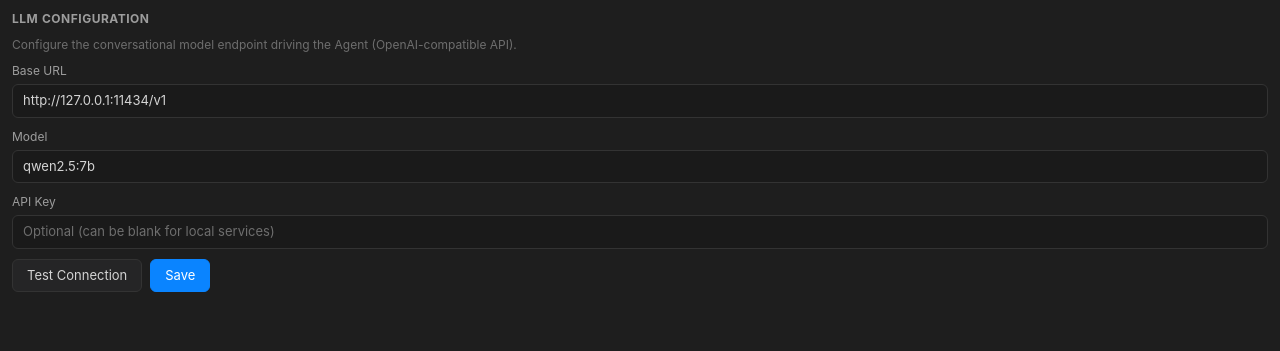
Scenario: SettingsPanel › saves base_url and model but omits a blank API key
Type "http://lm.test/v1" into the field with test id "input-base-url".
click(640, 101); type("http://lm.test/v1")  # box left=12, top=84, right=1268, bottom=118
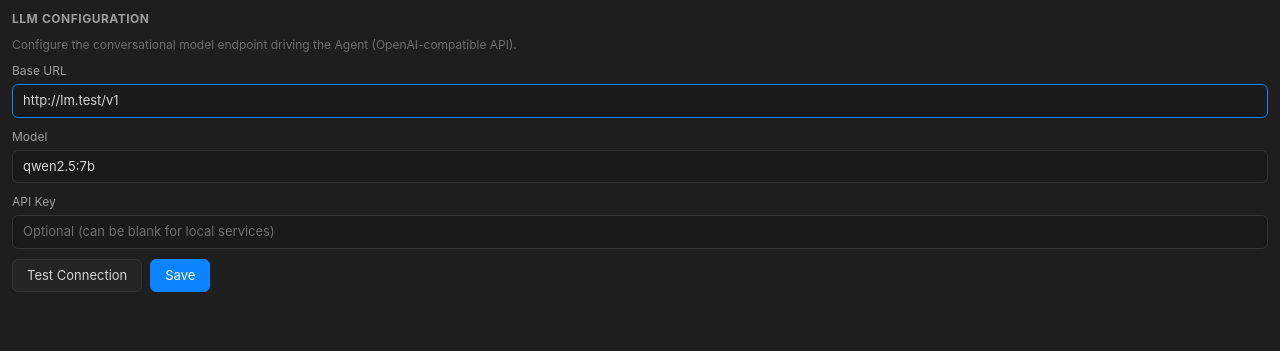
Type "lm-1" into the field with test id "input-model".
click(640, 166); type("lm-1")  # box left=12, top=150, right=1268, bottom=183
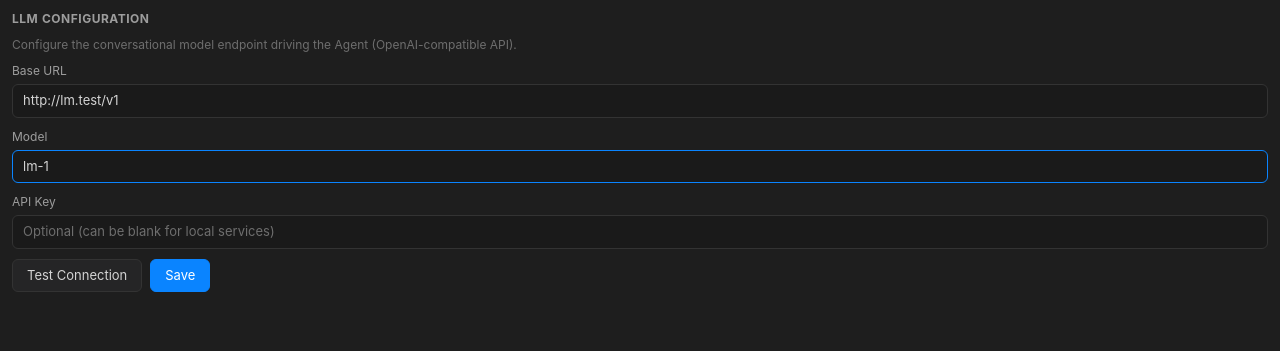
Click the button with test id "btn-save-settings".
click(180, 275)  # box left=150, top=258, right=210, bottom=292
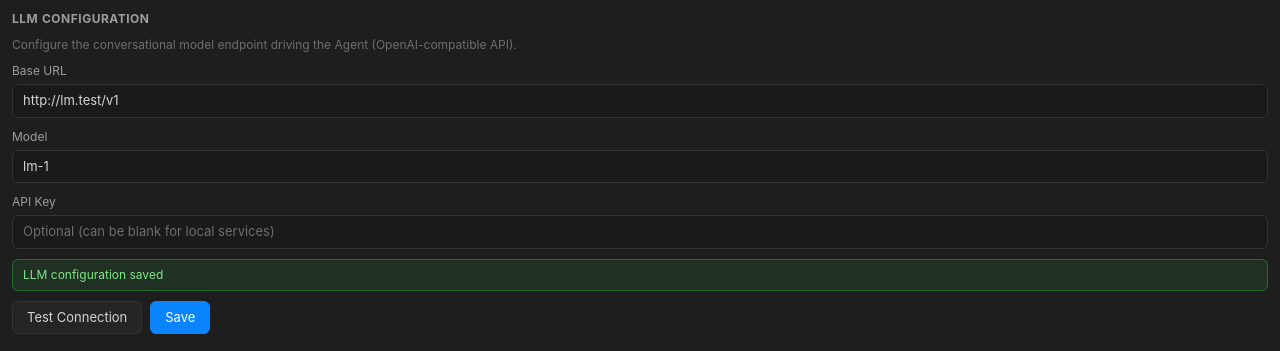
Expected: the password field with test id "input-api-key" is empty, left=12, top=215, right=1268, bottom=248
Result: the message with test id "settings-notice" reads "LLM configuration saved" at left=23, top=266, right=163, bottom=282
